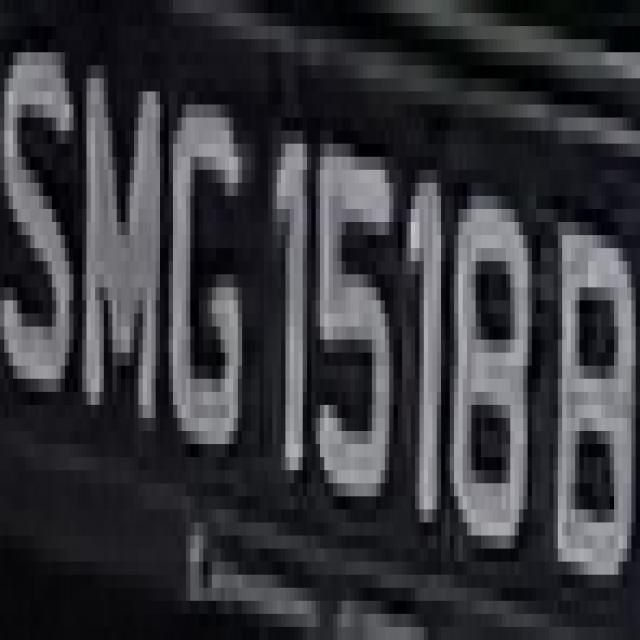1: (272, 78, 316, 510), (406, 157, 446, 522)
5: (316, 105, 398, 522)
8: (454, 169, 532, 562)
B: (562, 157, 640, 614)
G: (165, 79, 246, 496)
M: (78, 39, 177, 457)
S: (13, 26, 78, 431)
